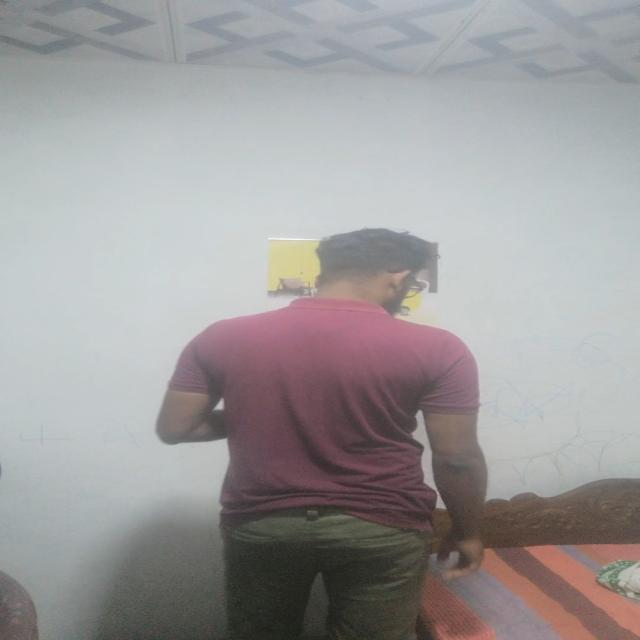Person: (155, 228, 488, 639)
